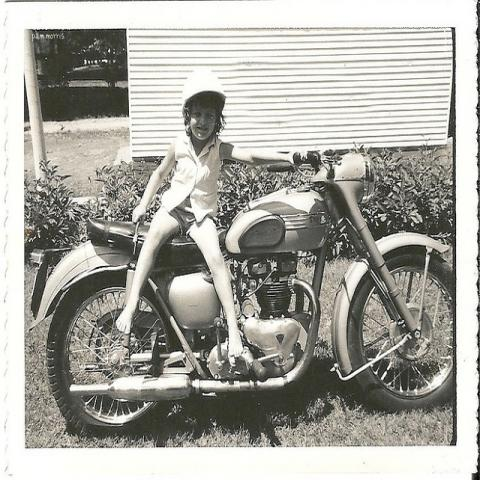motorcycle: (29, 145, 456, 442)
